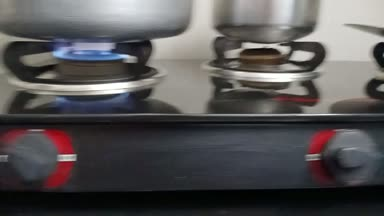flame_gas_off: (212, 28, 384, 198)
flame_gas_on: (1, 31, 142, 188)
